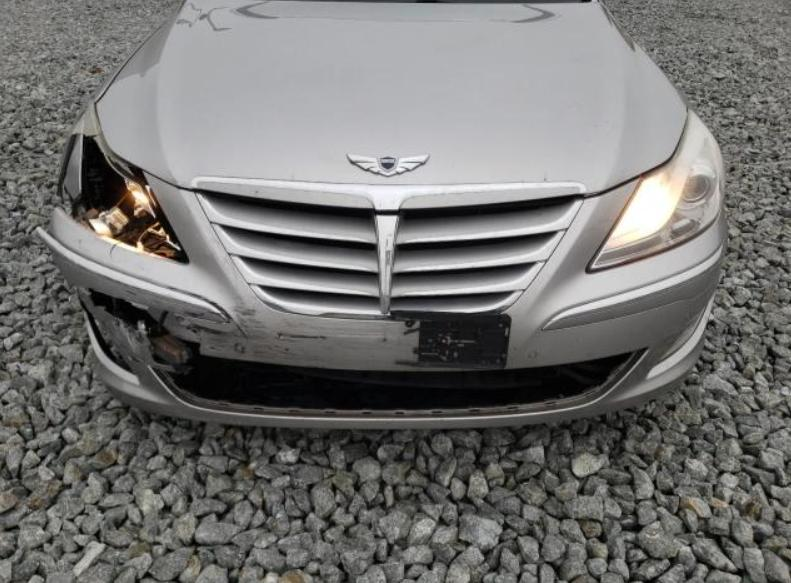Fender: (55, 76, 117, 198)
Front-bumper: (37, 174, 729, 428)
Grille: (196, 177, 583, 324)
Headlight: (583, 105, 726, 273)
Hood: (95, 0, 685, 198)
